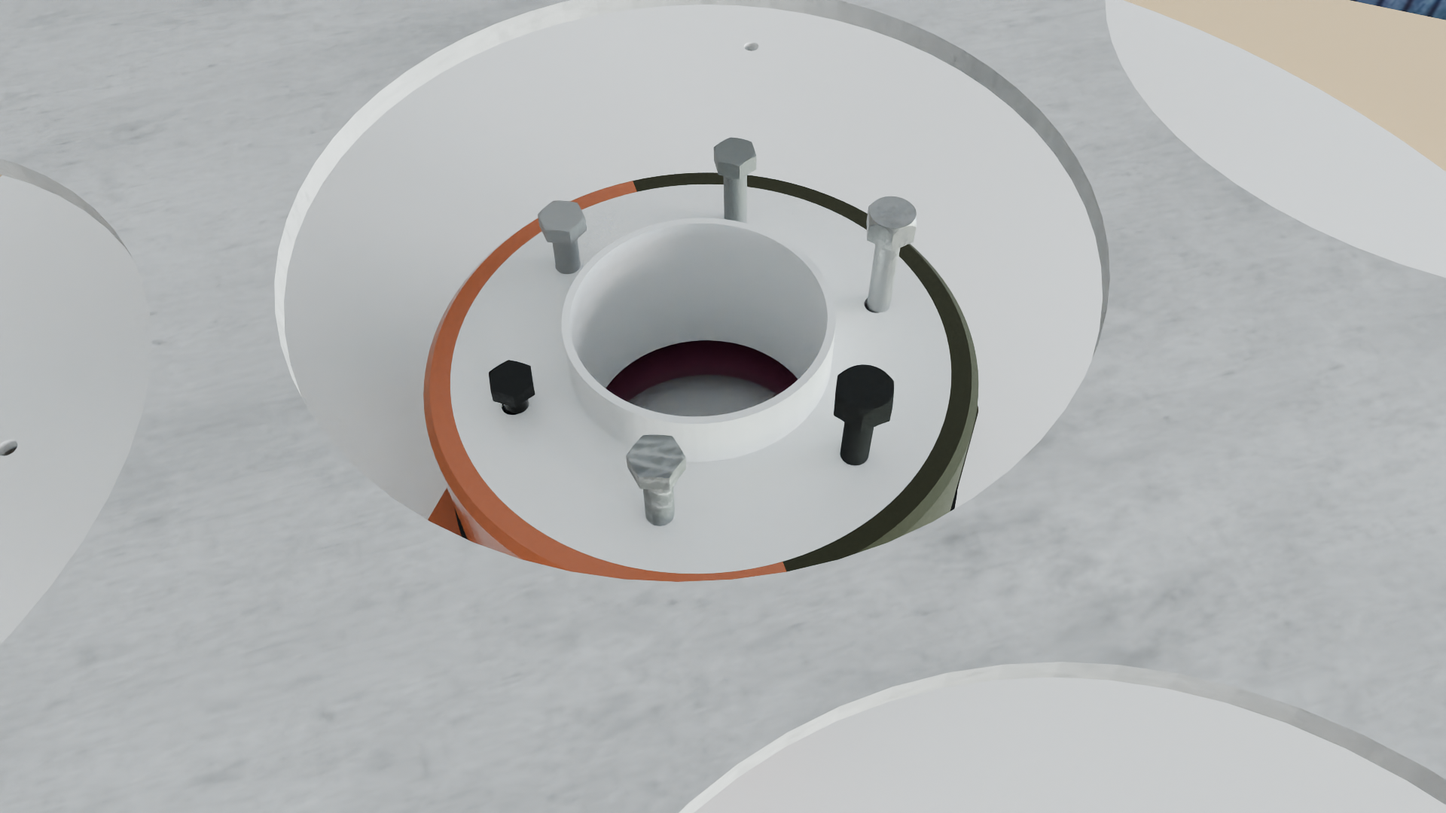bolt: (835, 364, 894, 417), (626, 434, 686, 479), (868, 196, 917, 236), (489, 360, 533, 397), (538, 200, 585, 232), (713, 137, 756, 167)
